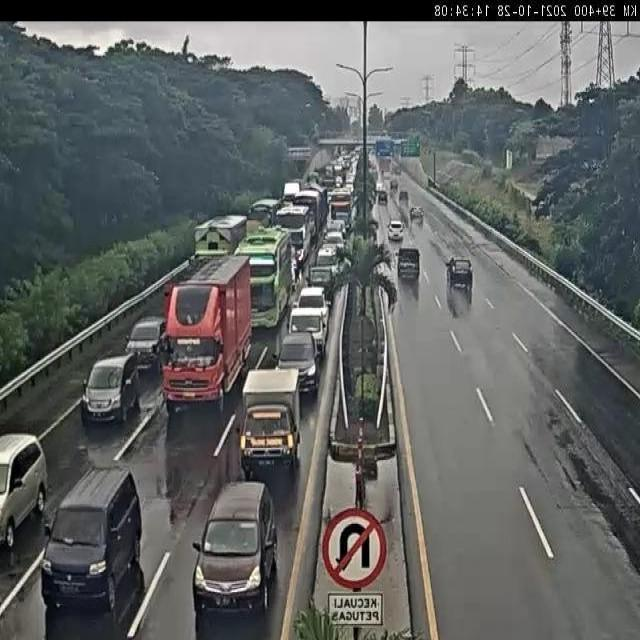Bus: (233, 226, 294, 329), (274, 204, 315, 268), (328, 187, 354, 221)
Car: (192, 483, 278, 623), (1, 434, 48, 551), (80, 351, 141, 426), (275, 330, 321, 397), (126, 316, 168, 368), (446, 258, 472, 303), (387, 220, 404, 241), (410, 206, 424, 221), (377, 187, 388, 205), (398, 189, 408, 202), (390, 178, 398, 192)
Truck: (160, 254, 253, 414), (238, 370, 302, 479), (193, 214, 249, 261), (288, 305, 328, 360)
Van: (42, 466, 143, 610), (397, 247, 421, 280)
